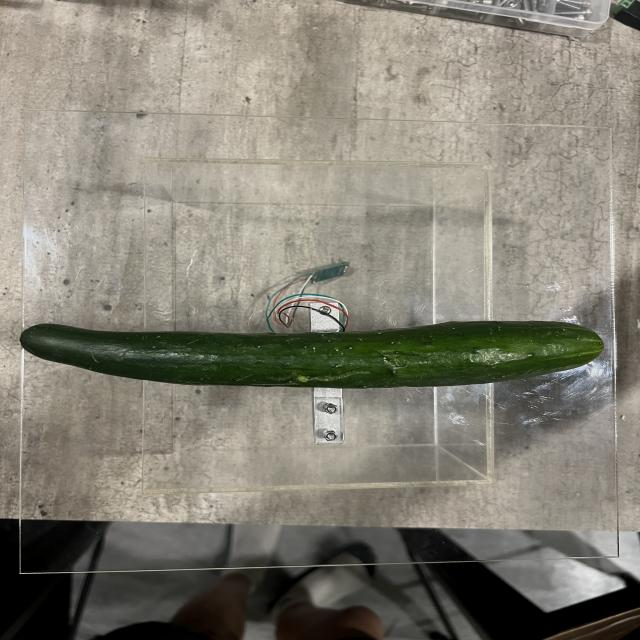cucumber: (18, 321, 607, 390)
